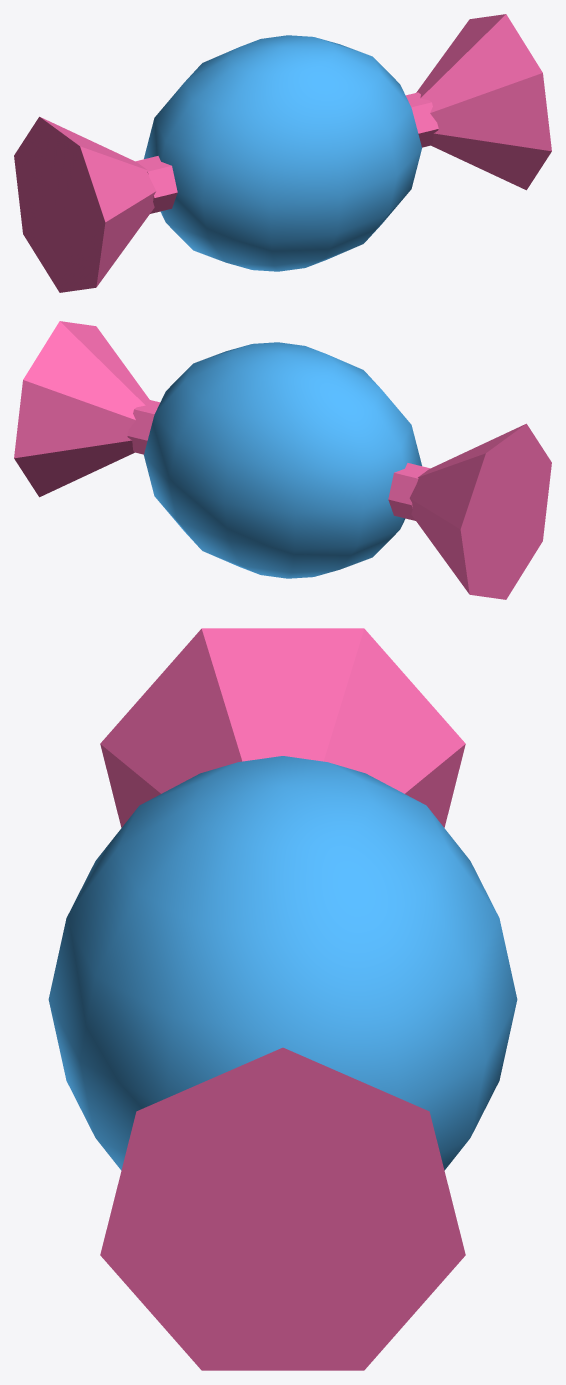
File: Candy.fbx
3 views of the same model, one above another, from view 1: azimuth 30°, elevation 25°; view 2: azimuth 150°, elevation 25°; view 3: azimuth 270°, elevation 25° (orthographic). The views are drawn at different scales.
Parts seen in each view (by area): view 1: Candy; view 2: Candy; view 3: Candy.
Boxes of the visible parts, <box> form: Candy: <box>14,14,551,292</box>; Candy: <box>14,321,551,599</box>; Candy: <box>48,628,517,1370</box>.
Bounding box in the file's own units: 1.32 × 0.6 × 0.6.
1 material, 1 textured.
